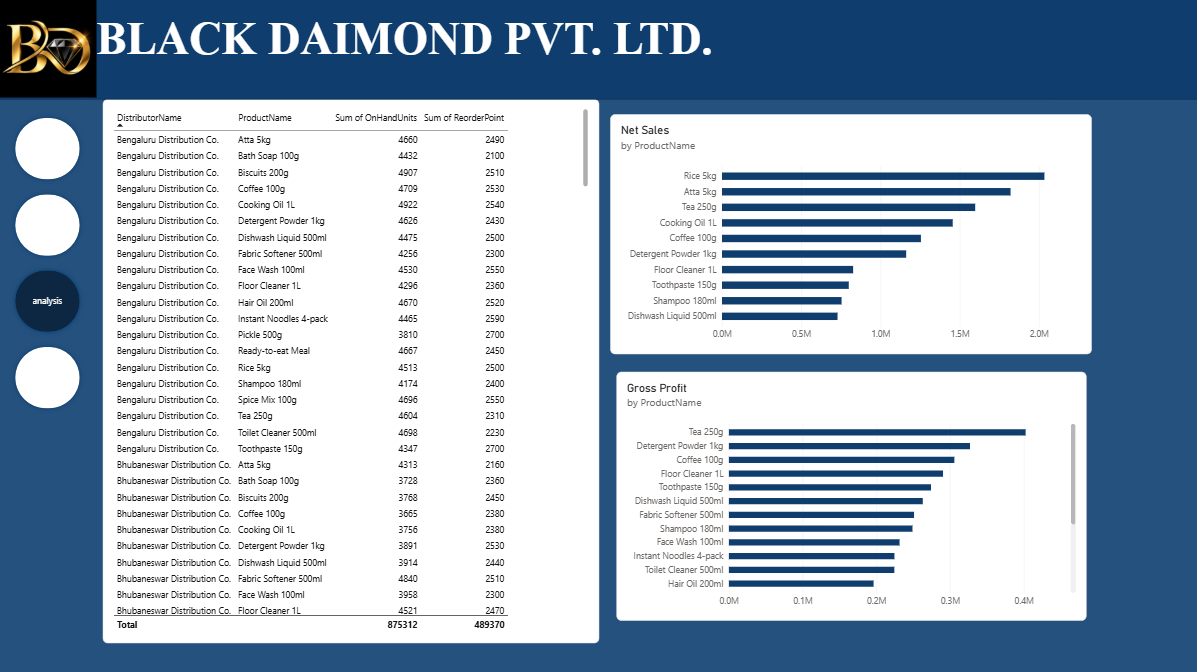

This screenshot's page, from the dashboard's own definition file:
{"tool":"powerbi","page":{"name":"analysis","canvas":[1920,1080],"ordinal":2},"visuals":[{"type":"clusteredBarChart","fields":{"Category":["Products.ProductName"],"Y":["SalesLines.Net Sales"]},"box":[978,186,770,384],"z":0},{"type":"clusteredBarChart","fields":{"Category":["Products.ProductName"],"Y":["SalesLines.Gross Profit"]},"box":[988,598,752,398],"z":1000},{"type":"tableEx","fields":{"Values":["Distributors.DistributorName","Products.ProductName","Sum(InventorySnapshots.OnHandUnits)","Sum(InventorySnapshots.ReorderPoint)"]},"box":[166,162,794,870],"z":2000},{"type":"shape","box":[0,0,1919.6,162.3],"z":4000},{"type":"image","box":[0,0,156,162],"z":4001},{"type":"textbox","box":[155.6,23.5,1046,94.1],"z":4002},{"type":"pageNavigator","box":[17.1,183.5,119.5,480],"z":4003}]}

Visuals, with their boxes in screenshot pixels (x1, y1, x2, y2), scaled from the page's 1920x1080 canvas onto the 1197x672 screenshot:
clusteredBarChart - Products.ProductName x SalesLines.Net Sales: (left=610, top=116, right=1090, bottom=355)
clusteredBarChart - Products.ProductName x SalesLines.Gross Profit: (left=616, top=372, right=1085, bottom=620)
tableEx - Distributors.DistributorName x Products.ProductName: (left=103, top=101, right=598, bottom=642)
shape: (left=0, top=0, right=1196, bottom=101)
image: (left=0, top=0, right=97, bottom=101)
textbox: (left=97, top=15, right=749, bottom=73)
pageNavigator: (left=11, top=114, right=85, bottom=413)
